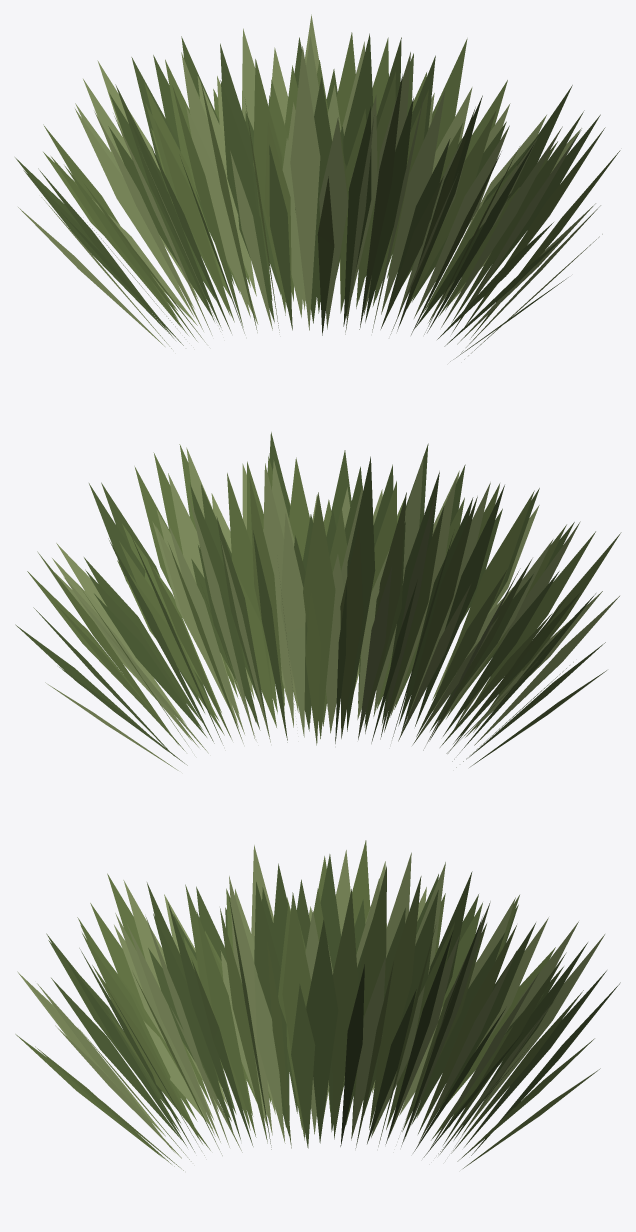
The model's file is shrub.glb.
3 renders of one model, top to bottom at view 1: azimuth 30°, elevation 25°; view 2: azimuth 150°, elevation 25°; view 3: azimuth 270°, elevation 25°, orthographic.
Visible parts, largest first — view 1: sage2, leaf0, green1; view 2: leaf0, sage2, green1; view 3: green1, leaf0, sage2.
Part boxes in pixels (x1=…): sage2: x1=18, y1=14, x2=602, y2=359; leaf0: x1=43, y1=32, x2=620, y2=342; green1: x1=15, y1=33, x2=600, y2=361; leaf0: x1=27, y1=444, x2=621, y2=767; sage2: x1=45, y1=447, x2=619, y2=770; green1: x1=15, y1=432, x2=606, y2=767; green1: x1=46, y1=854, x2=620, y2=1157; leaf0: x1=15, y1=840, x2=600, y2=1170; sage2: x1=17, y1=845, x2=604, y2=1161.
Bounding box in the file's own units: 1.67 × 0.8411 × 1.67.
